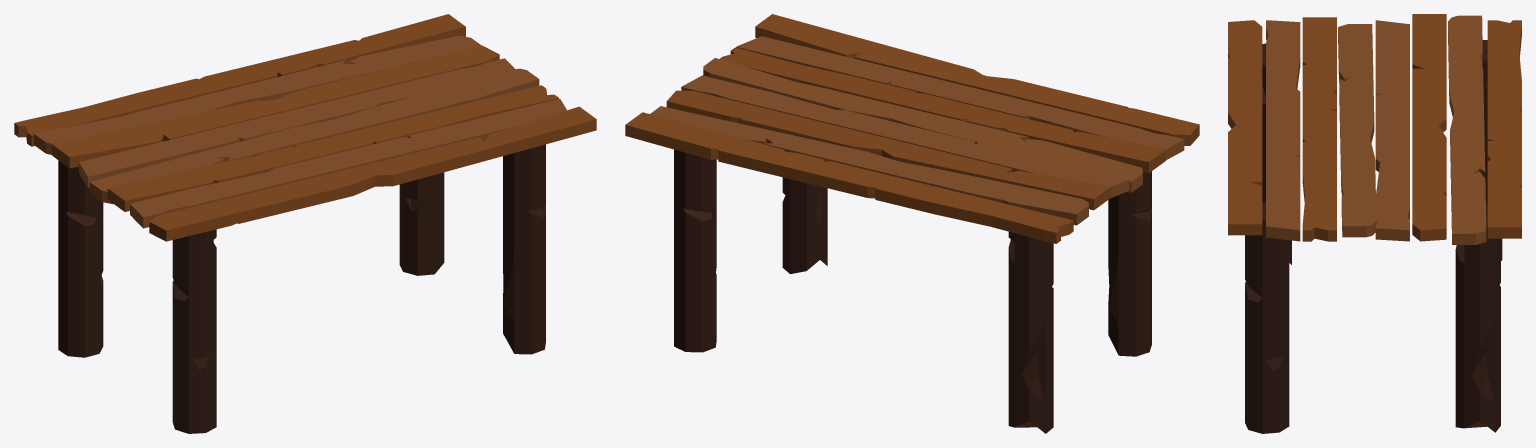
Rendered from Table.fbx.
3 renders of one model, left to right at view 1: azimuth 30°, elevation 25°; view 2: azimuth 150°, elevation 25°; view 3: azimuth 270°, elevation 25°, orthographic.
Visible parts, largest first — view 1: Plane.005, Cylinder; view 2: Plane.005, Cylinder; view 3: Plane.005, Cylinder.
Part boxes in pixels (x1,y1,x2,y2): Plane.005: (14, 14, 596, 241); Cylinder: (58, 144, 545, 433); Plane.005: (625, 14, 1199, 243); Cylinder: (674, 149, 1151, 433); Plane.005: (1228, 14, 1521, 244); Cylinder: (1245, 40, 1502, 433).
Size of the model in its own units: 4049 by 2025 by 2387.
